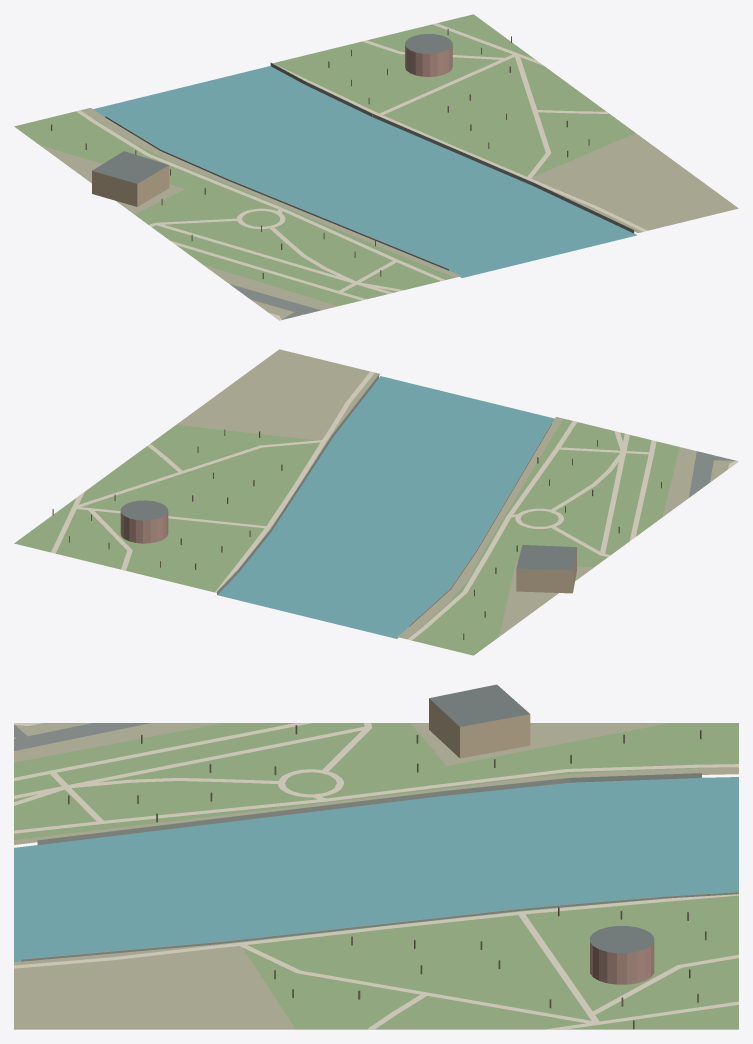
File: sector--3_-3.glb
The picture shows the model from 3 angles, top to bottom: view 1: azimuth 30°, elevation 25°; view 2: azimuth 150°, elevation 25°; view 3: azimuth 270°, elevation 25°; orthographic projection. The views are drawn at different scales.
Parts seen in each view (by area): view 1: -3:-3-water, -3:-3-park, -3:-3-ground, -3:-3-paving, -3:-3-facade, -3:-3-bank, -3:-3-roof, -3:-3-road; view 2: -3:-3-water, -3:-3-park, -3:-3-ground, -3:-3-paving, -3:-3-facade, -3:-3-roof, -3:-3-bank, -3:-3-road; view 3: -3:-3-park, -3:-3-water, -3:-3-ground, -3:-3-paving, -3:-3-bank, -3:-3-facade, -3:-3-roof, -3:-3-road, -3:-3-trunk.
Boxes of the visible parts, box(x1,y1,x2,y2) form: -3:-3-water: box(93, 66, 637, 277); -3:-3-park: box(14, 14, 635, 306); -3:-3-ground: box(40, 108, 738, 320); -3:-3-paving: box(76, 23, 647, 320); -3:-3-facade: box(92, 44, 452, 206); -3:-3-bank: box(105, 62, 634, 270); -3:-3-roof: box(92, 34, 452, 183); -3:-3-road: box(230, 284, 320, 319); -3:-3-water: box(217, 376, 554, 638); -3:-3-park: box(14, 418, 679, 655); -3:-3-ground: box(176, 349, 734, 639); -3:-3-paving: box(51, 371, 738, 640); -3:-3-facade: box(120, 511, 576, 593); -3:-3-roof: box(120, 500, 576, 570); -3:-3-bank: box(217, 375, 551, 626); -3:-3-road: box(689, 451, 735, 497); -3:-3-park: box(14, 723, 738, 1029); -3:-3-water: box(14, 777, 738, 961); -3:-3-ground: box(14, 723, 738, 1029); -3:-3-paving: box(14, 723, 738, 1029); -3:-3-bank: box(21, 772, 738, 961); -3:-3-facade: box(429, 698, 654, 984); -3:-3-roof: box(429, 684, 654, 953); -3:-3-road: box(14, 723, 150, 750); -3:-3-trunk: box(68, 725, 706, 1029).
Size of the model in its own units: 205 by 10.45 by 200.
